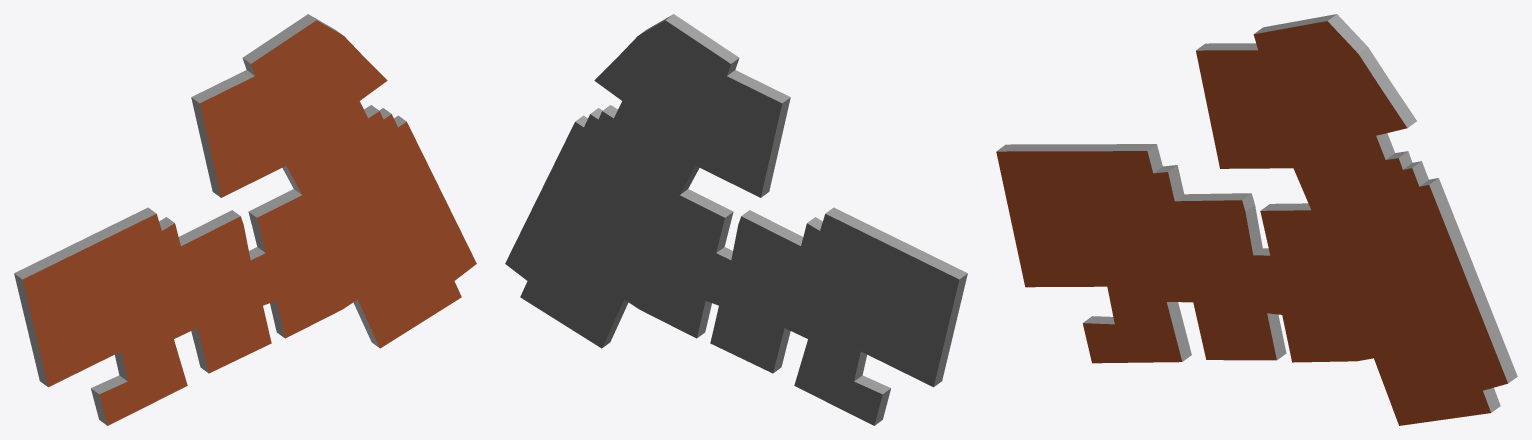
Rendered from construction_0123_assumed_A_Grande_construcao_h6m.obj.
The picture shows the model from 3 angles, left to right: view 1: azimuth 30°, elevation 25°; view 2: azimuth 150°, elevation 25°; view 3: azimuth 330°, elevation 25°; orthographic projection. The views are drawn at different scales.
Visible parts, largest first — view 1: construction_0123_assumed_A_Grande_construcao; view 2: construction_0123_assumed_A_Grande_construcao; view 3: construction_0123_assumed_A_Grande_construcao.
Part boxes in pixels (bbox=[...]): construction_0123_assumed_A_Grande_construcao: bbox=[14, 14, 476, 425]; construction_0123_assumed_A_Grande_construcao: bbox=[505, 14, 967, 425]; construction_0123_assumed_A_Grande_construcao: bbox=[996, 14, 1517, 425].
Size of the model in its own units: 185 by 138 by 6.
